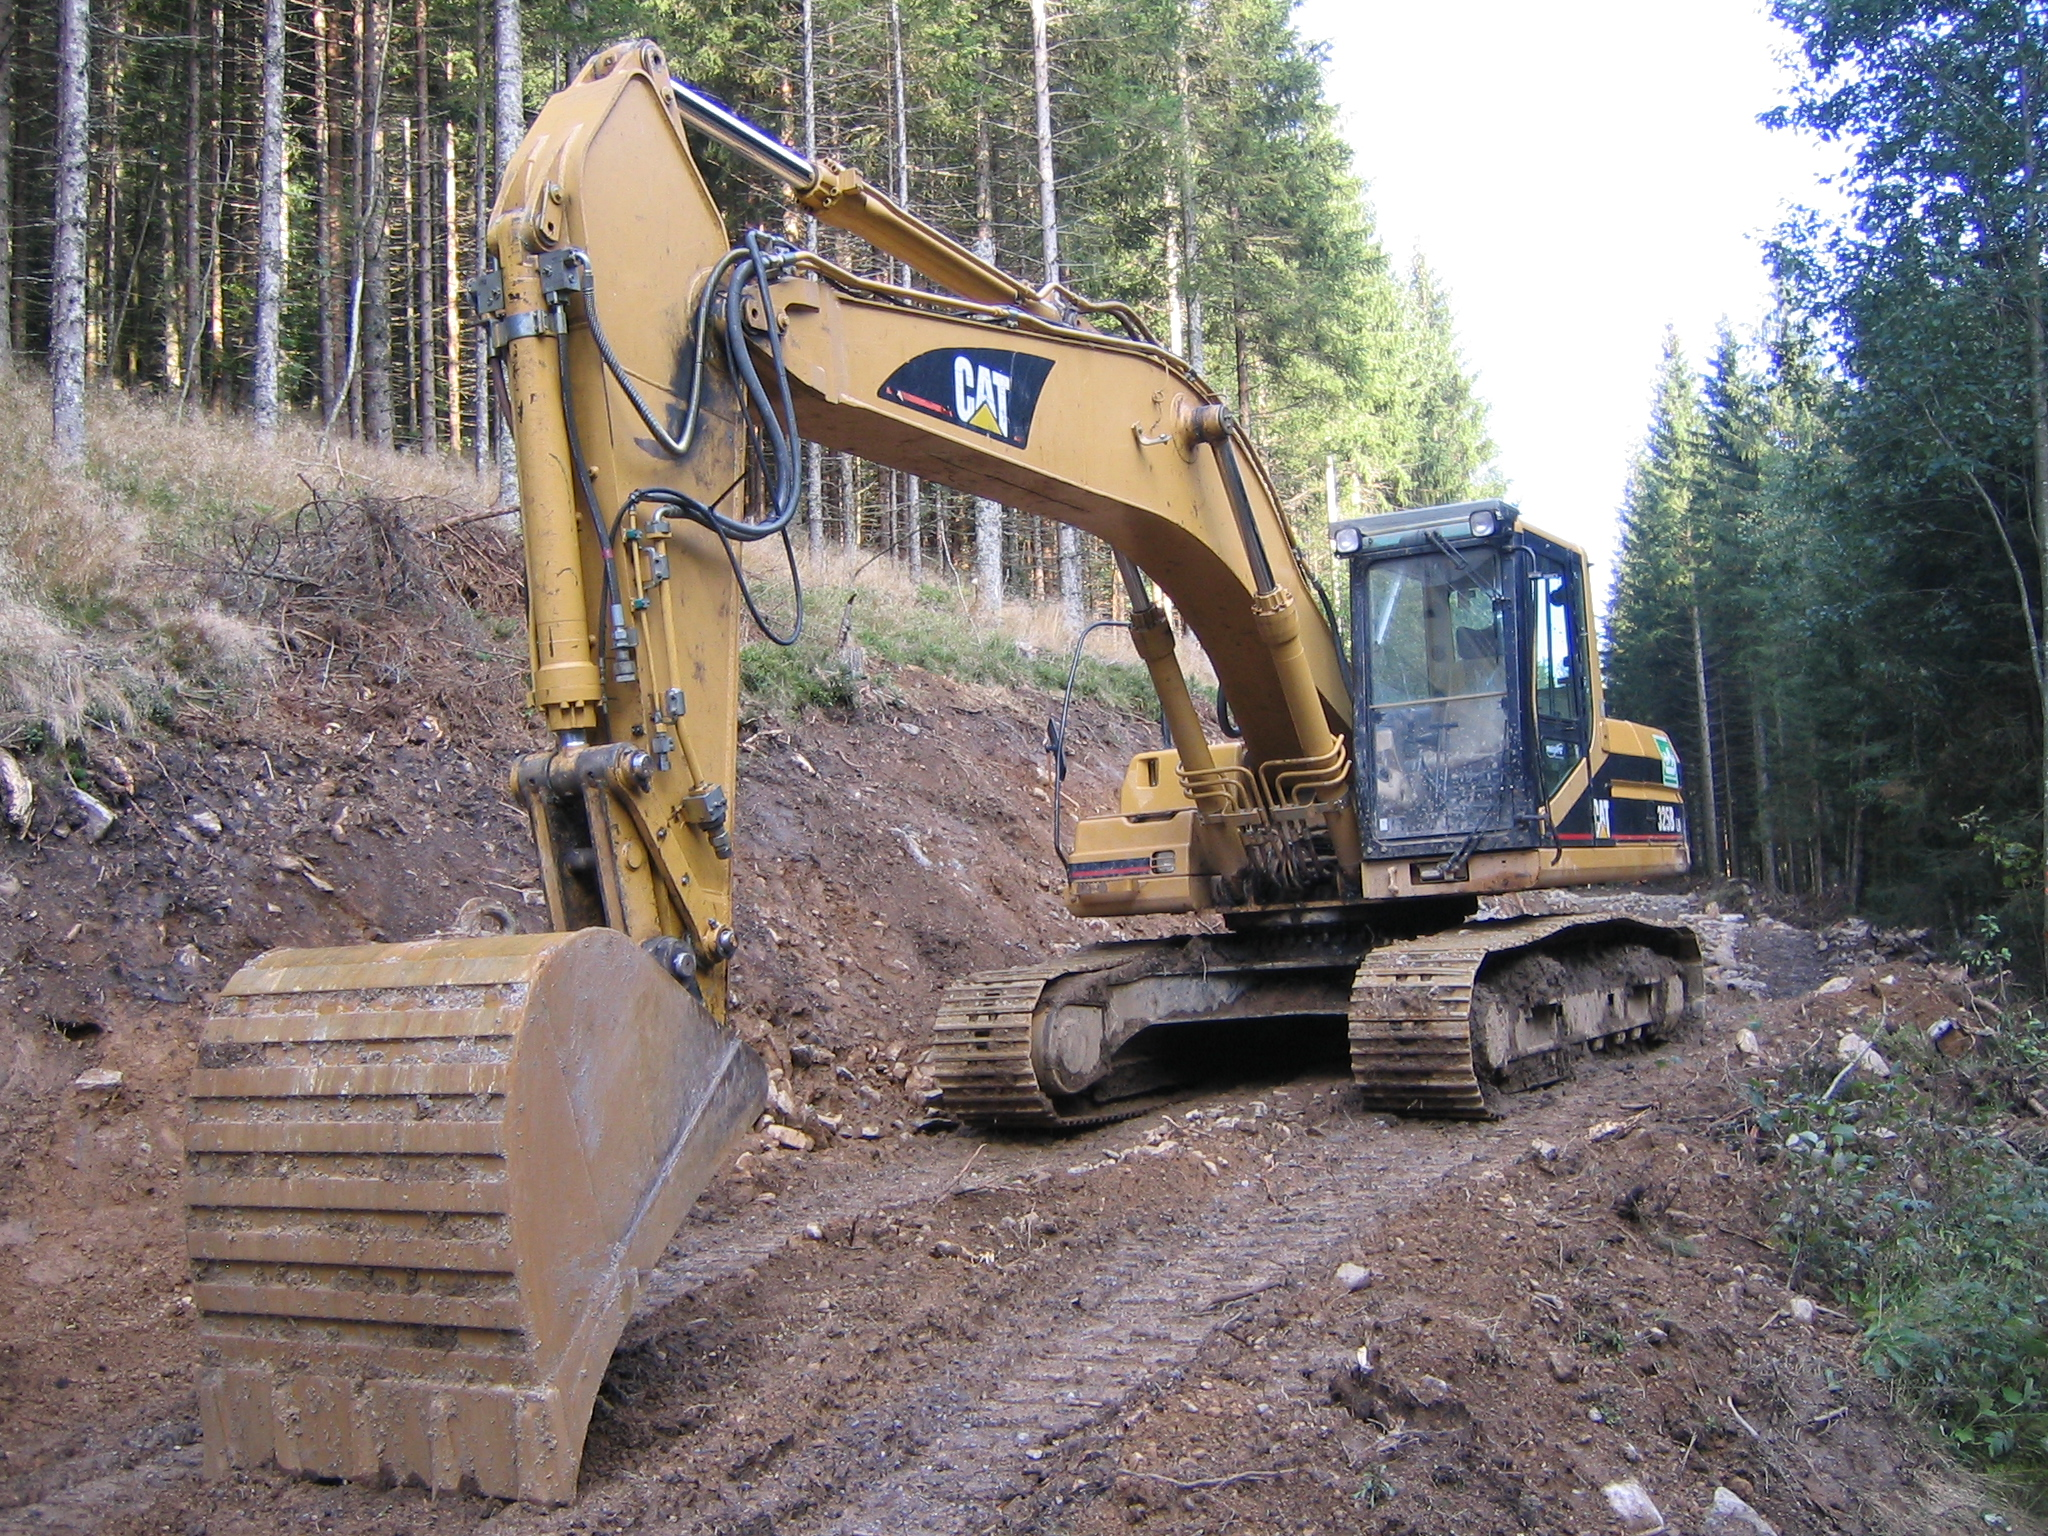excavator: (153, 34, 1717, 1483)
